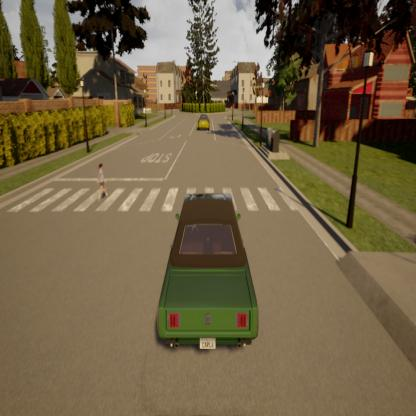Cars: (159, 192, 258, 354), (196, 113, 212, 132)
Pedestrian: (96, 157, 109, 202)
